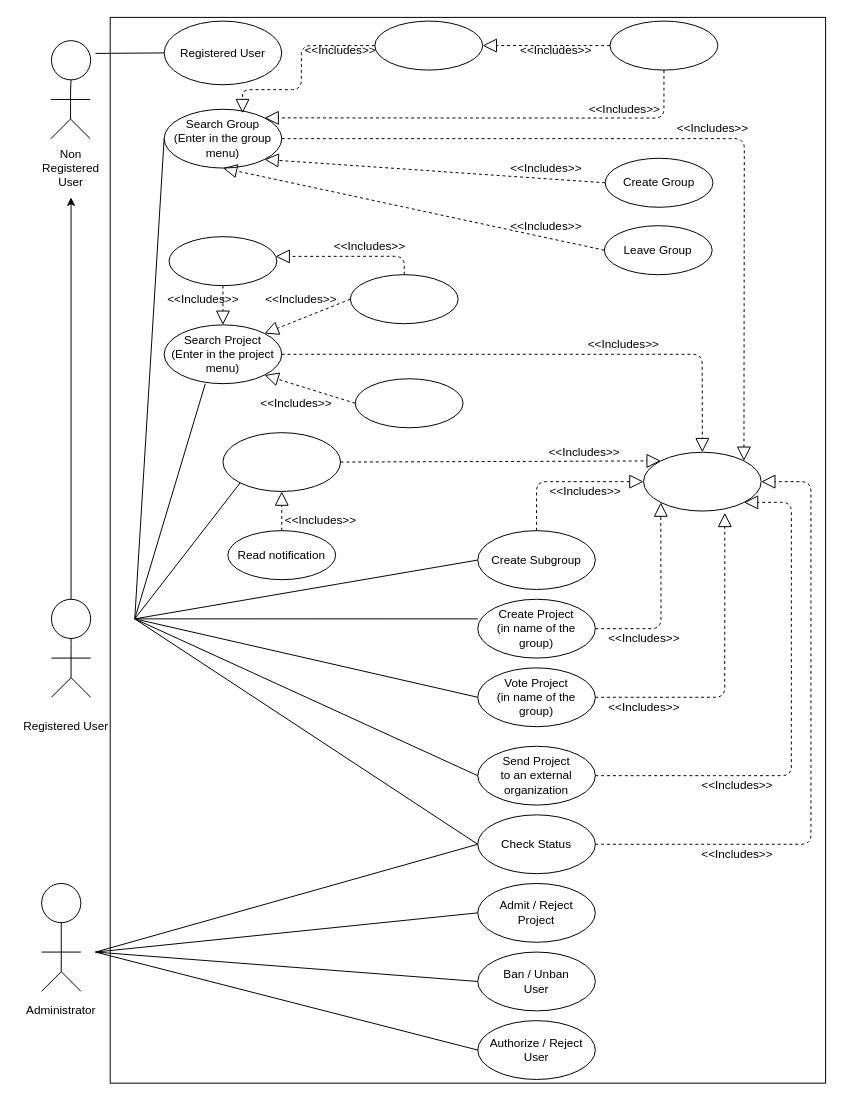
Image size: 843x1101. Some labels were removed from this diagram. Each missing label, with the centre of its shape:
"Create Project" belongs at point (408, 403).
"Join Group" belongs at point (428, 45).
"Log In" belongs at point (702, 481).
"Look Notification" belongs at point (281, 461).
"See Afinitive" belongs at point (663, 45).
"See votes" belongs at point (403, 299).
"Vote Project" belongs at point (222, 261).
